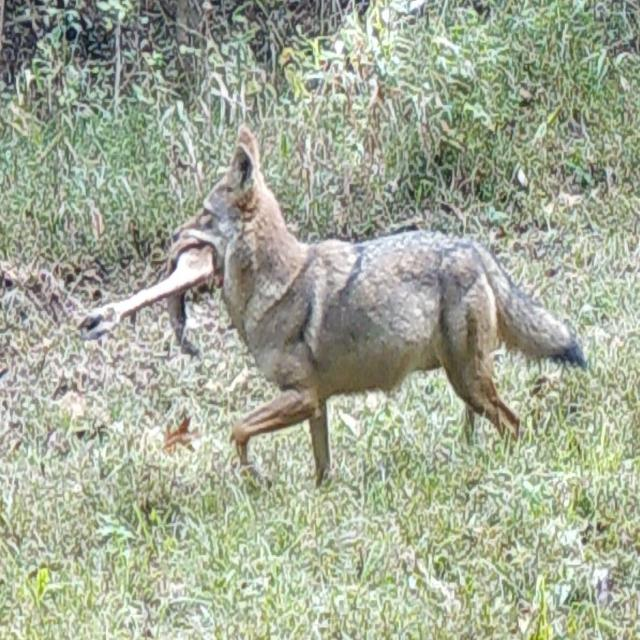Coyote: (189, 125, 592, 488)
